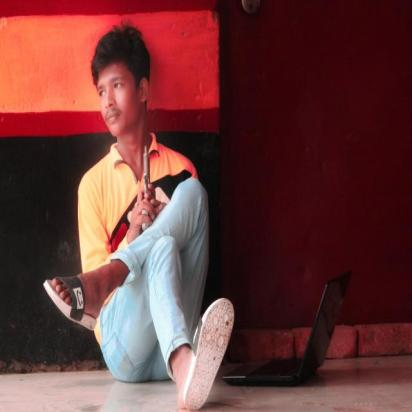Gun: (140, 145, 152, 232)
